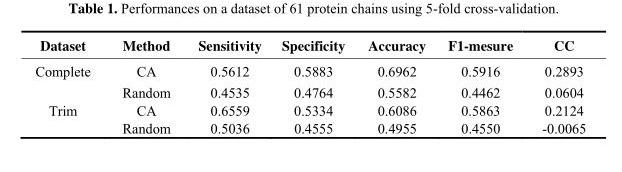table: (34, 34, 585, 135)
table column: (436, 34, 526, 135), (183, 34, 270, 135), (270, 34, 355, 135), (355, 34, 436, 135), (105, 34, 183, 135), (34, 34, 105, 135), (526, 34, 585, 135)
table column header: (34, 34, 585, 58)
table row: (34, 34, 585, 58), (34, 58, 585, 81), (34, 81, 585, 100), (34, 100, 585, 118), (34, 118, 585, 135)
table spanning cell: (34, 58, 105, 100), (34, 100, 105, 135)
